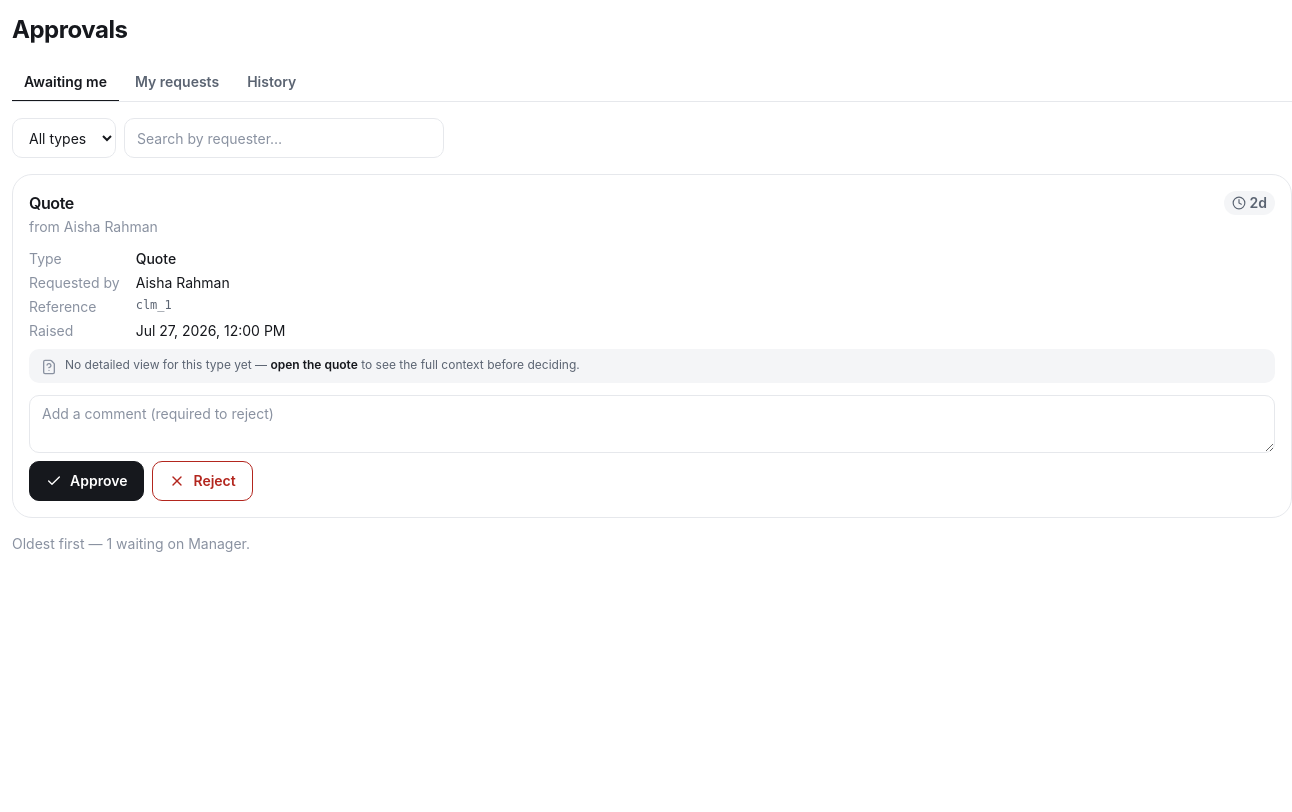
Test: Awaiting me › rolls the optimistic update back and explains a 409
Expected: the text "clm_1" is shown, top-left (136, 298), bottom-right (172, 312)
Click the button "Approve": [87, 481] box top-left (29, 461), bottom-right (144, 501)
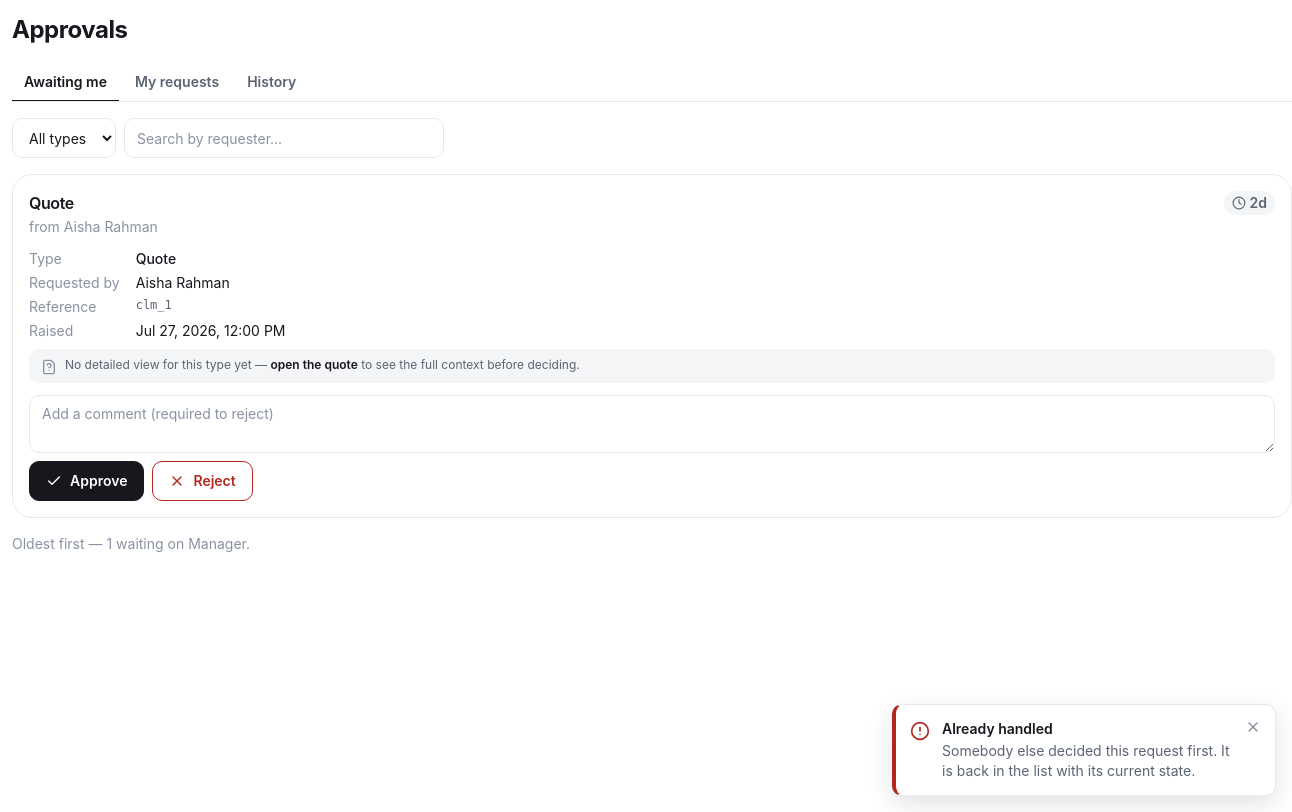
Expected: the text "clm_1" is shown, top-left (136, 298), bottom-right (172, 312)
Result: the text "Already handled" is shown at top-left (942, 720), bottom-right (1053, 737)
Result: the text "Somebody else decided this request first" is shown at top-left (942, 742), bottom-right (1230, 779)
